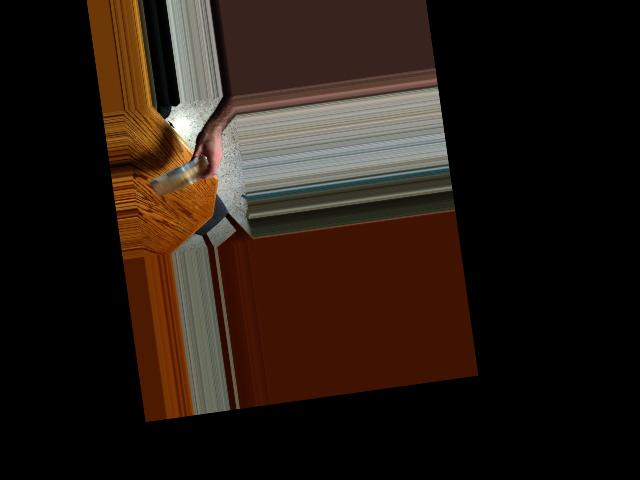cheese: (146, 160, 217, 193)
